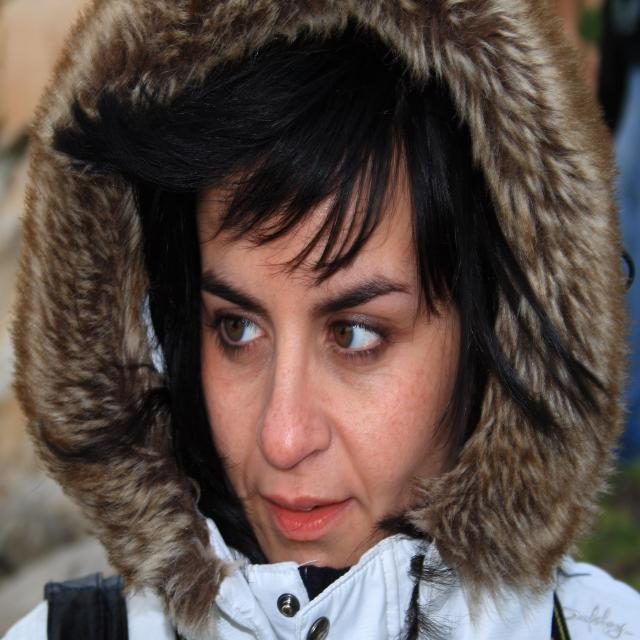no-glass: (208, 308, 396, 359)
